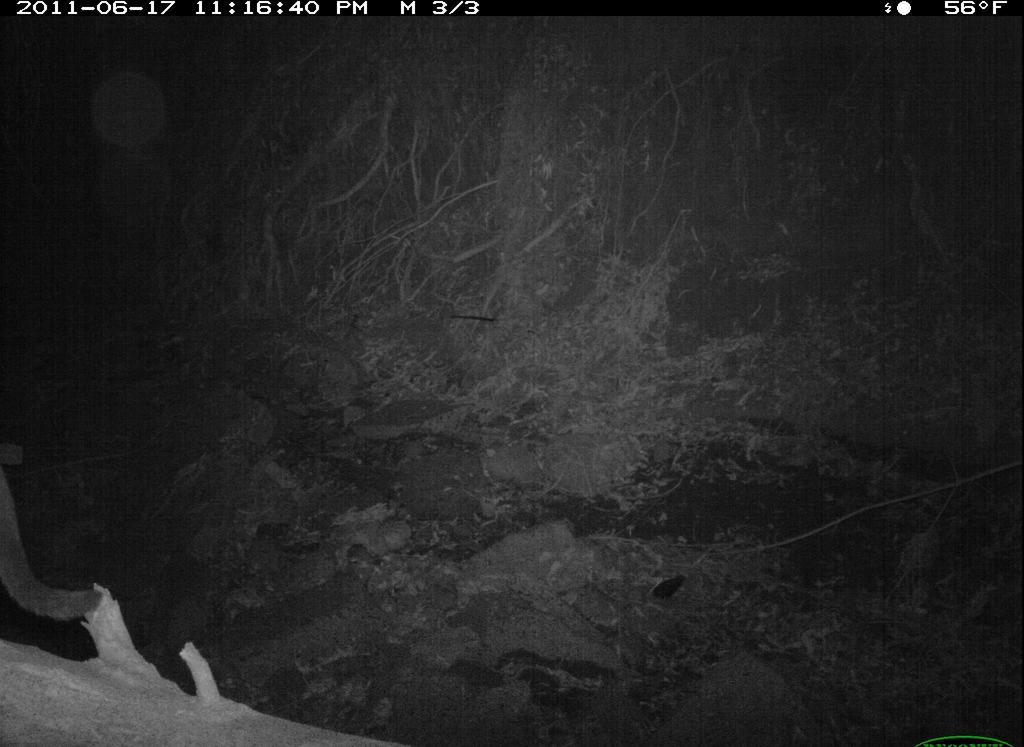cat: (1, 434, 109, 632)
